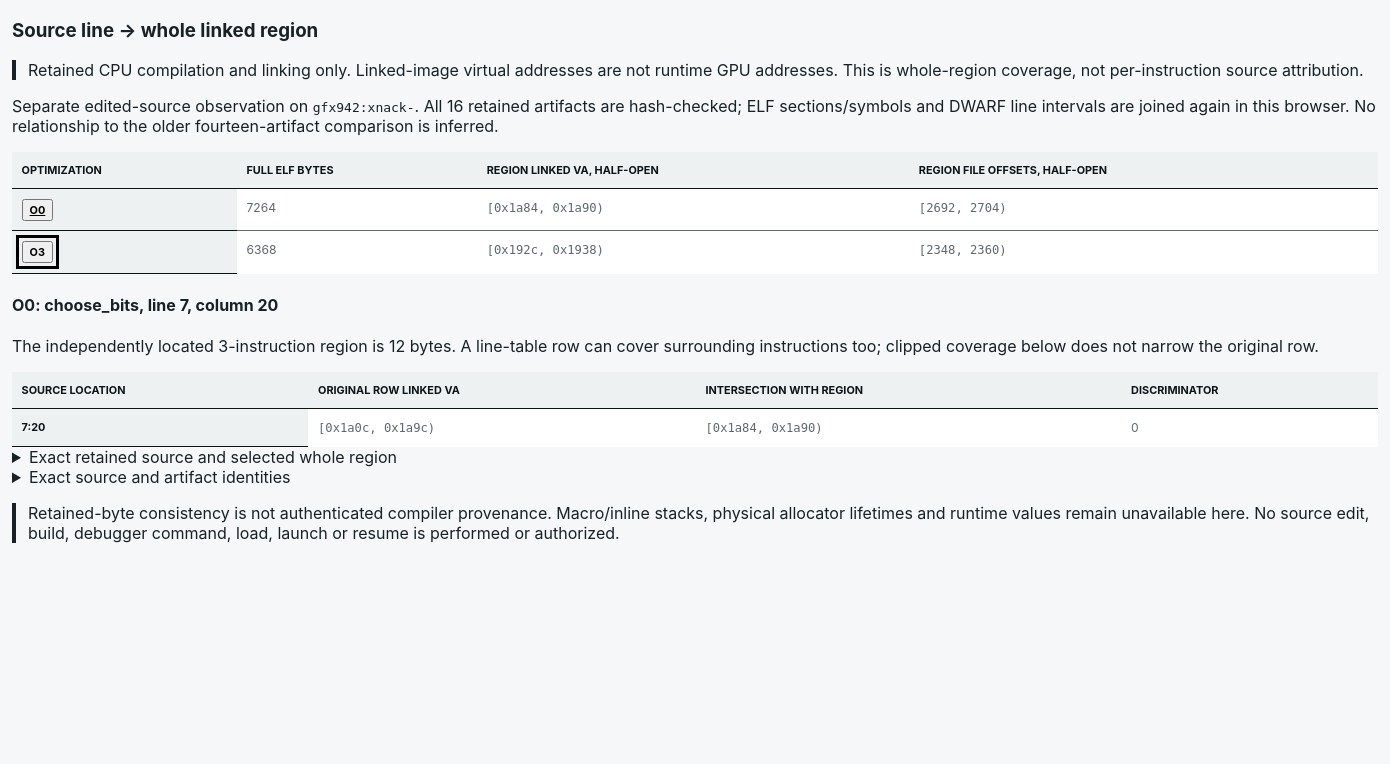
Test case: renders exact O0/O3 whole regions with keyboard selection and unabridged source
Type keys " "
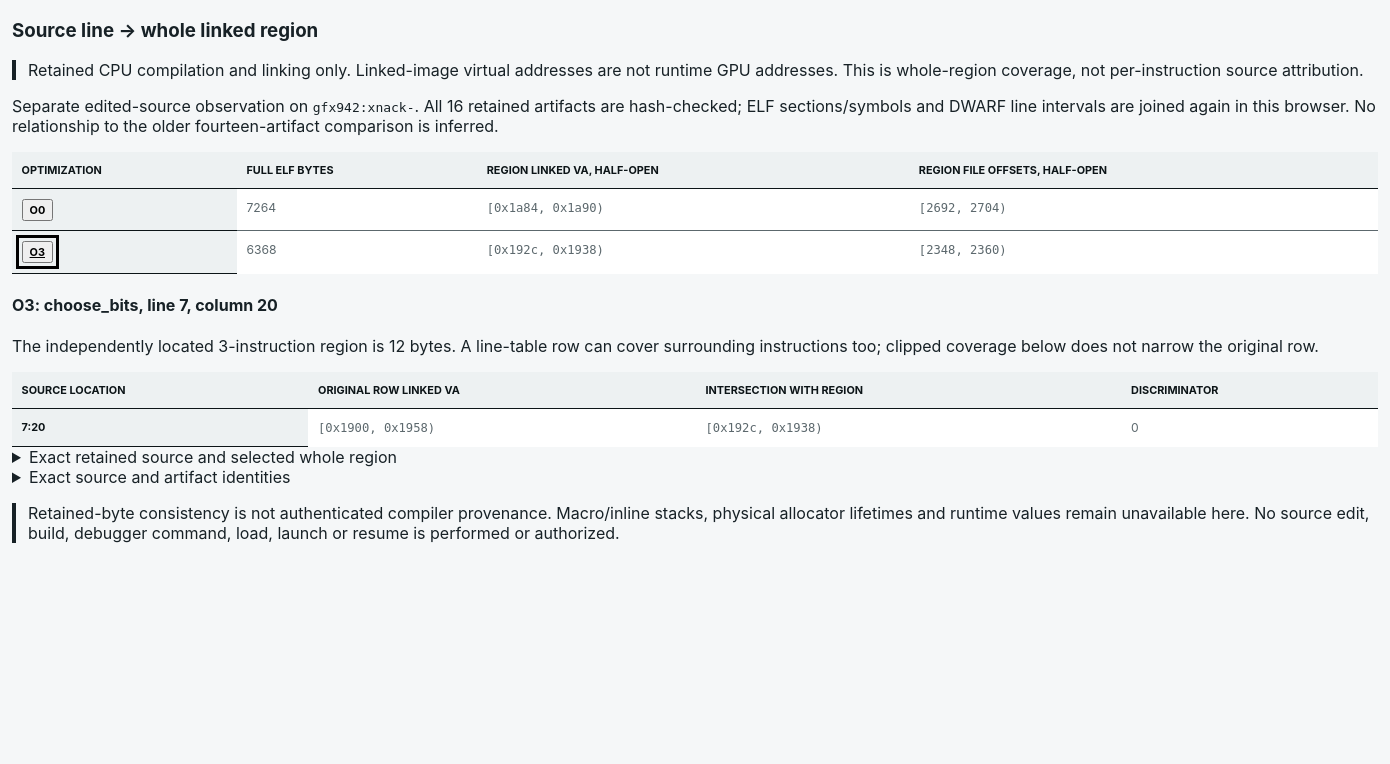
Expected: the table named "Whole-region line coverage" shows "[0x1900, 0x1958)", [12,372,1378,447]
Expected: the table named "Whole-region line coverage" shows "[0x192c, 0x1938)", [12,372,1378,447]
Click the heading "Exact retained source and selected whole region".
click(213, 457)  # box [29,447,397,467]
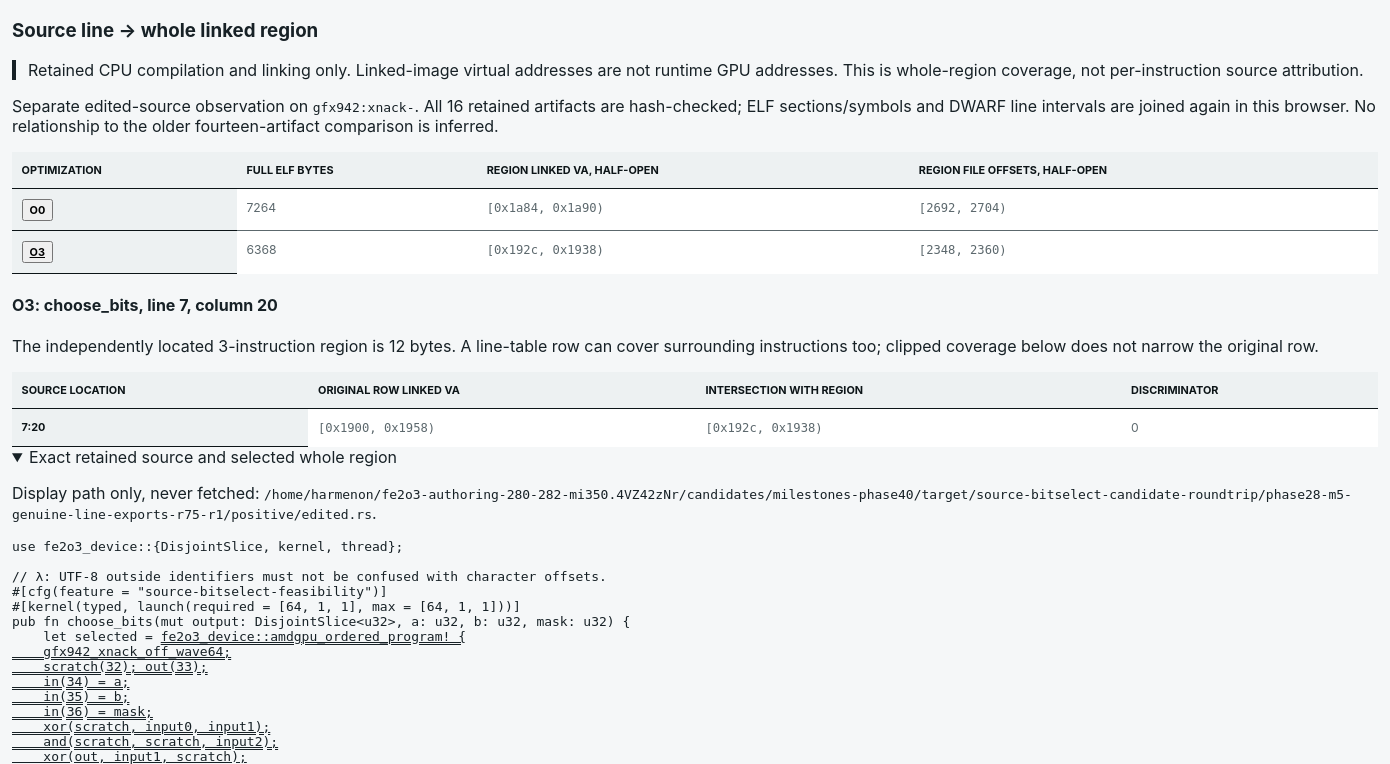
Expected: the text "not per-instruction source attribution" is shown, [28,60,1364,80]
Expected: the element named "Retained linked-line source" shows "λ", [12,539,630,644]
